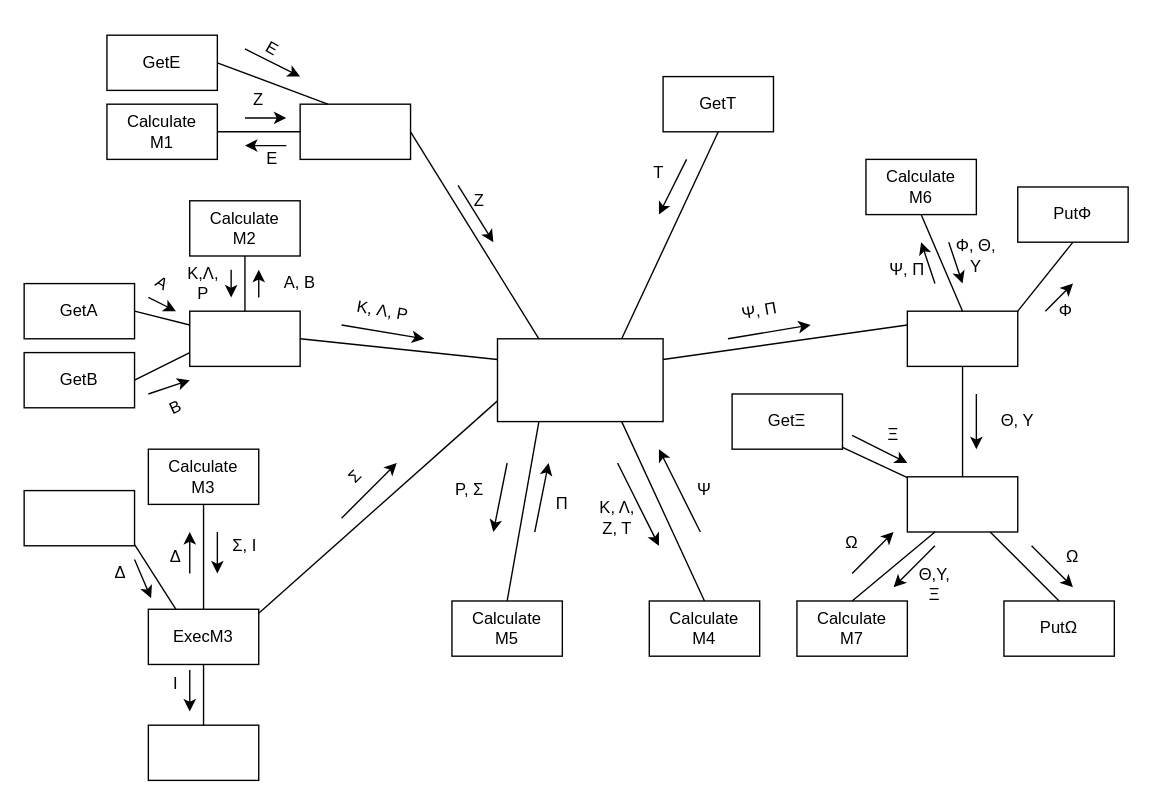
Image size: 1152x806. Some labels were removed from this diagram. Each missing label, with the box of its shape:
ExecM1: (299, 103, 411, 159)
ExecM2: (188, 310, 300, 366)
ExecM4_5: (496, 337, 663, 422)
ExecM6: (906, 310, 1018, 366)
ExecM7: (906, 475, 1018, 532)
GetΔ: (23, 489, 135, 546)
PutI: (147, 724, 259, 780)
